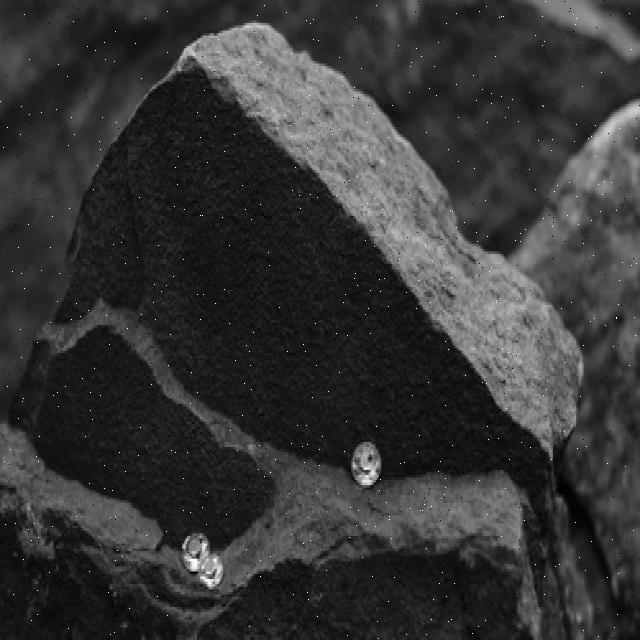Sedimentary: (12, 15, 612, 437)
